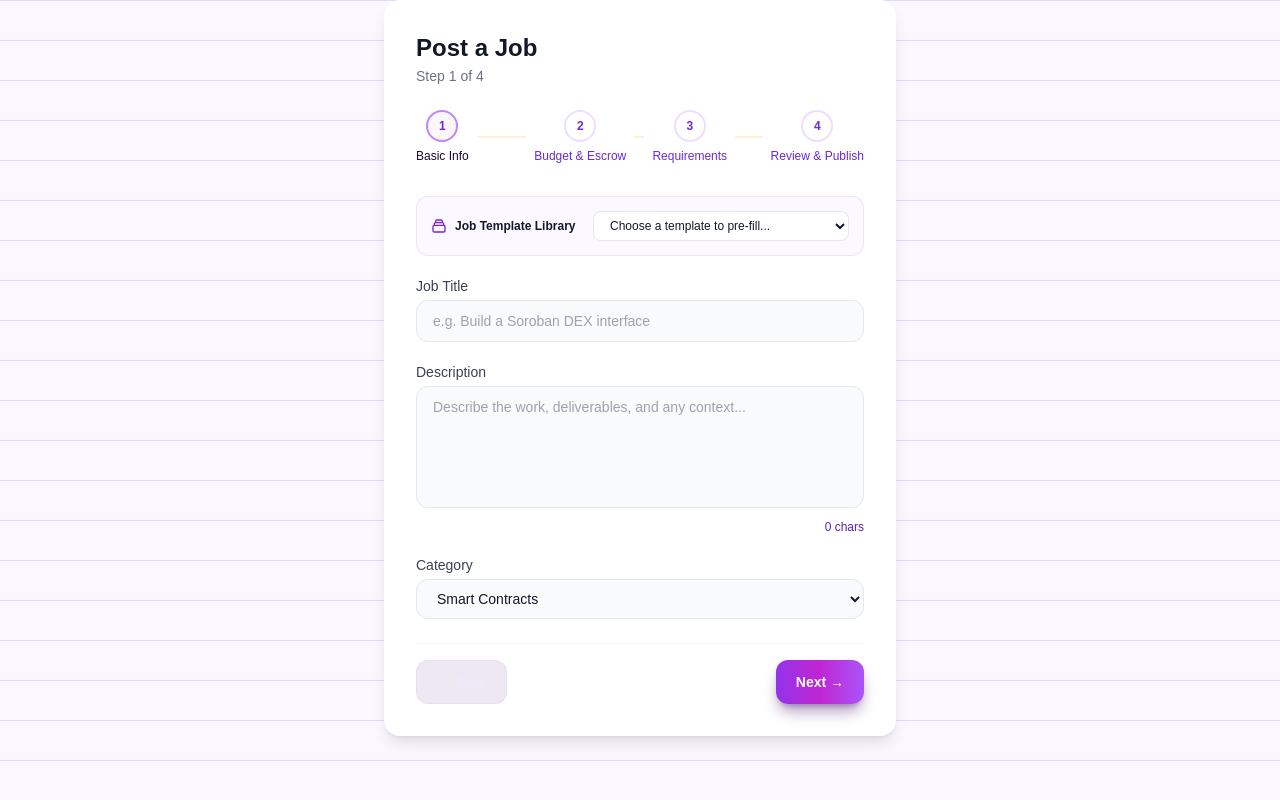
it: Job Template Library (Issue #1556) › fetches templates and pre-fills form fields when a template is selected
Note: Select the first template
Select "Monthly React Work" in the dropdown with test id "template-picker" at {"x": 721, "y": 226}, box [593, 211, 849, 241]
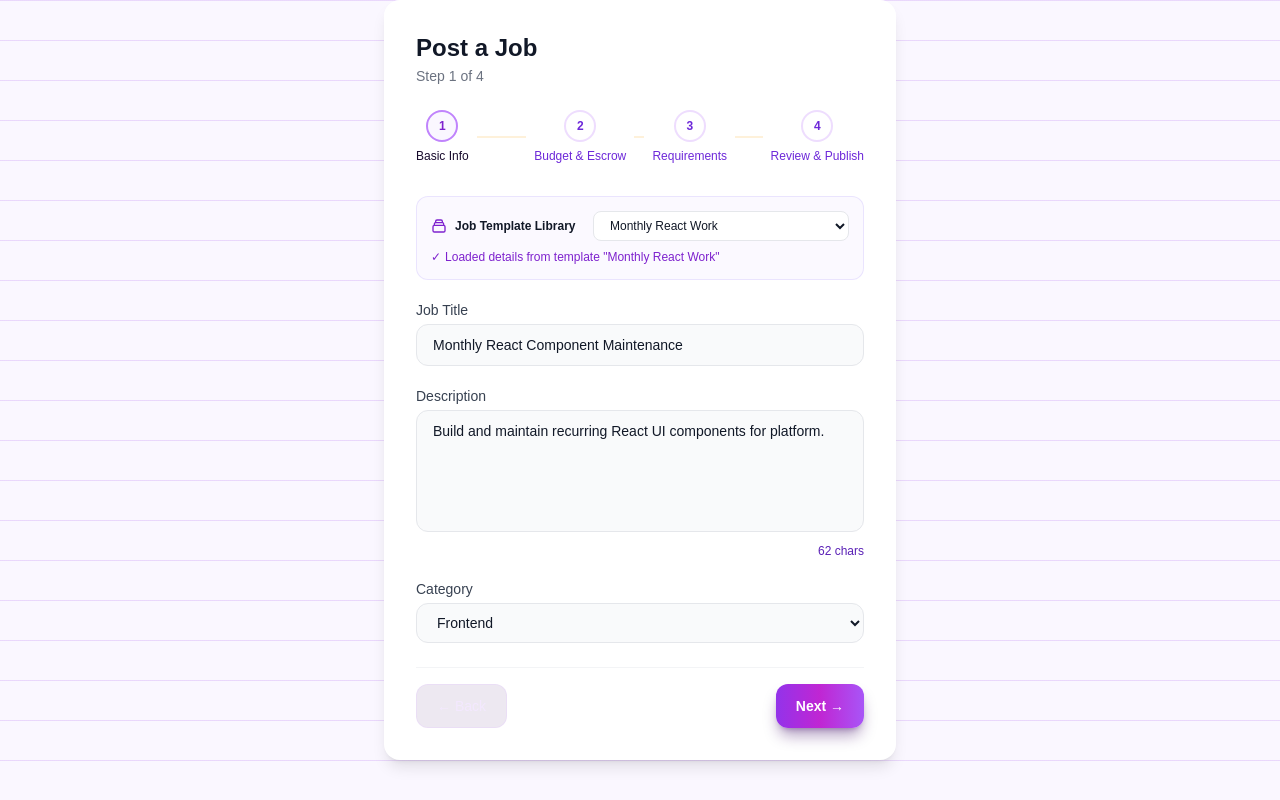
Check: the field with placeholder "e.g. Build a Soroban DEX interface" holds "Monthly React Component Maintenance", box [416, 324, 864, 366]
Check: the text box with placeholder "Describe the work, deliverables, and any context..." holds "Build and maintain recurring React UI components for platform.", box [416, 410, 864, 532]
Check: the text "Loaded details from template \"Monthly React Work\"" is shown, box [445, 250, 720, 264]
